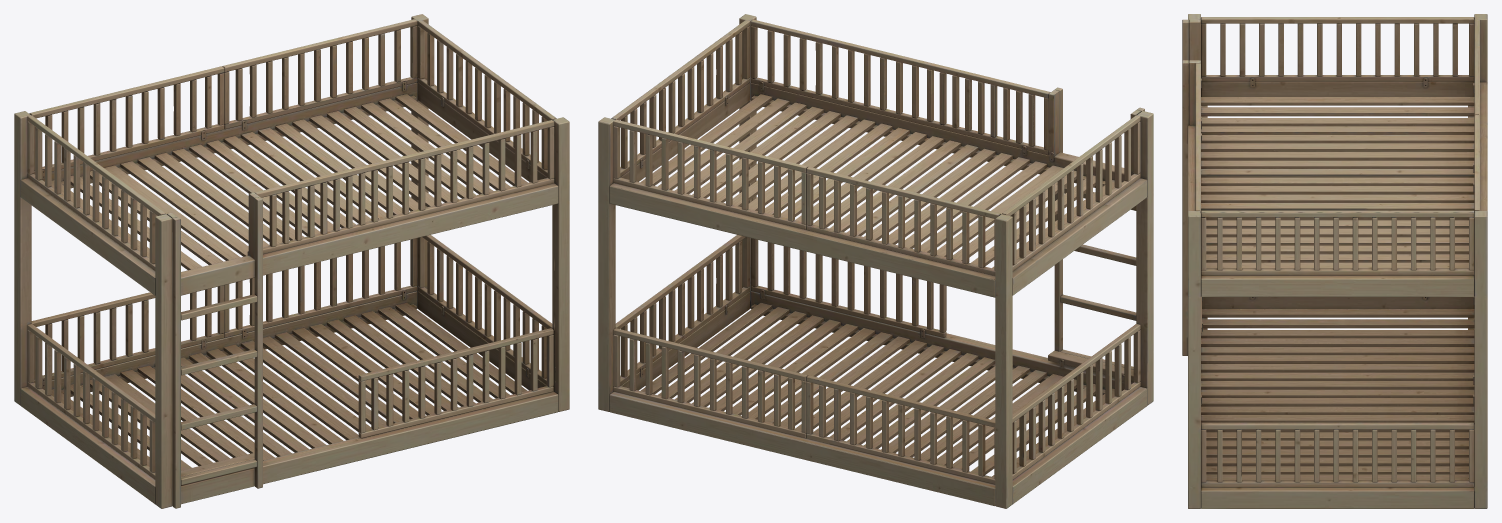
The picture shows the model from 3 angles, left to right: view 1: azimuth 30°, elevation 25°; view 2: azimuth 150°, elevation 25°; view 3: azimuth 270°, elevation 25°; orthographic projection.
Visible parts, largest first — view 1: 200x120; view 2: 200x120; view 3: 200x120.
Part boxes in pixels (left/top/right/bottom): 200x120: left=14, top=14, right=569, bottom=508; 200x120: left=598, top=14, right=1153, bottom=508; 200x120: left=1182, top=14, right=1487, bottom=508.
Size of the model in its own units: 2.14 by 1.45 by 1.36.
Materials: 1 (1 with a texture image).
